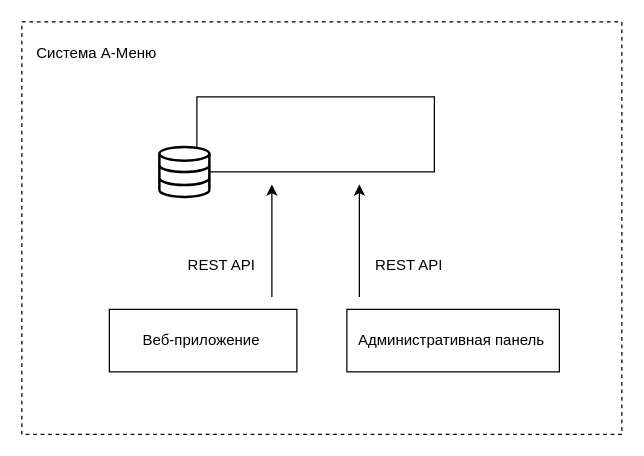
This 644x456 diagram has some shape labels left out. Here are the shapes that lost their labels. From the top down, the box of each, then its label:
(196, 96, 434, 172): Серверная часть системы
(158, 145, 210, 198): База данных
